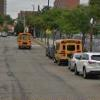Bus: (48, 34, 80, 67)
